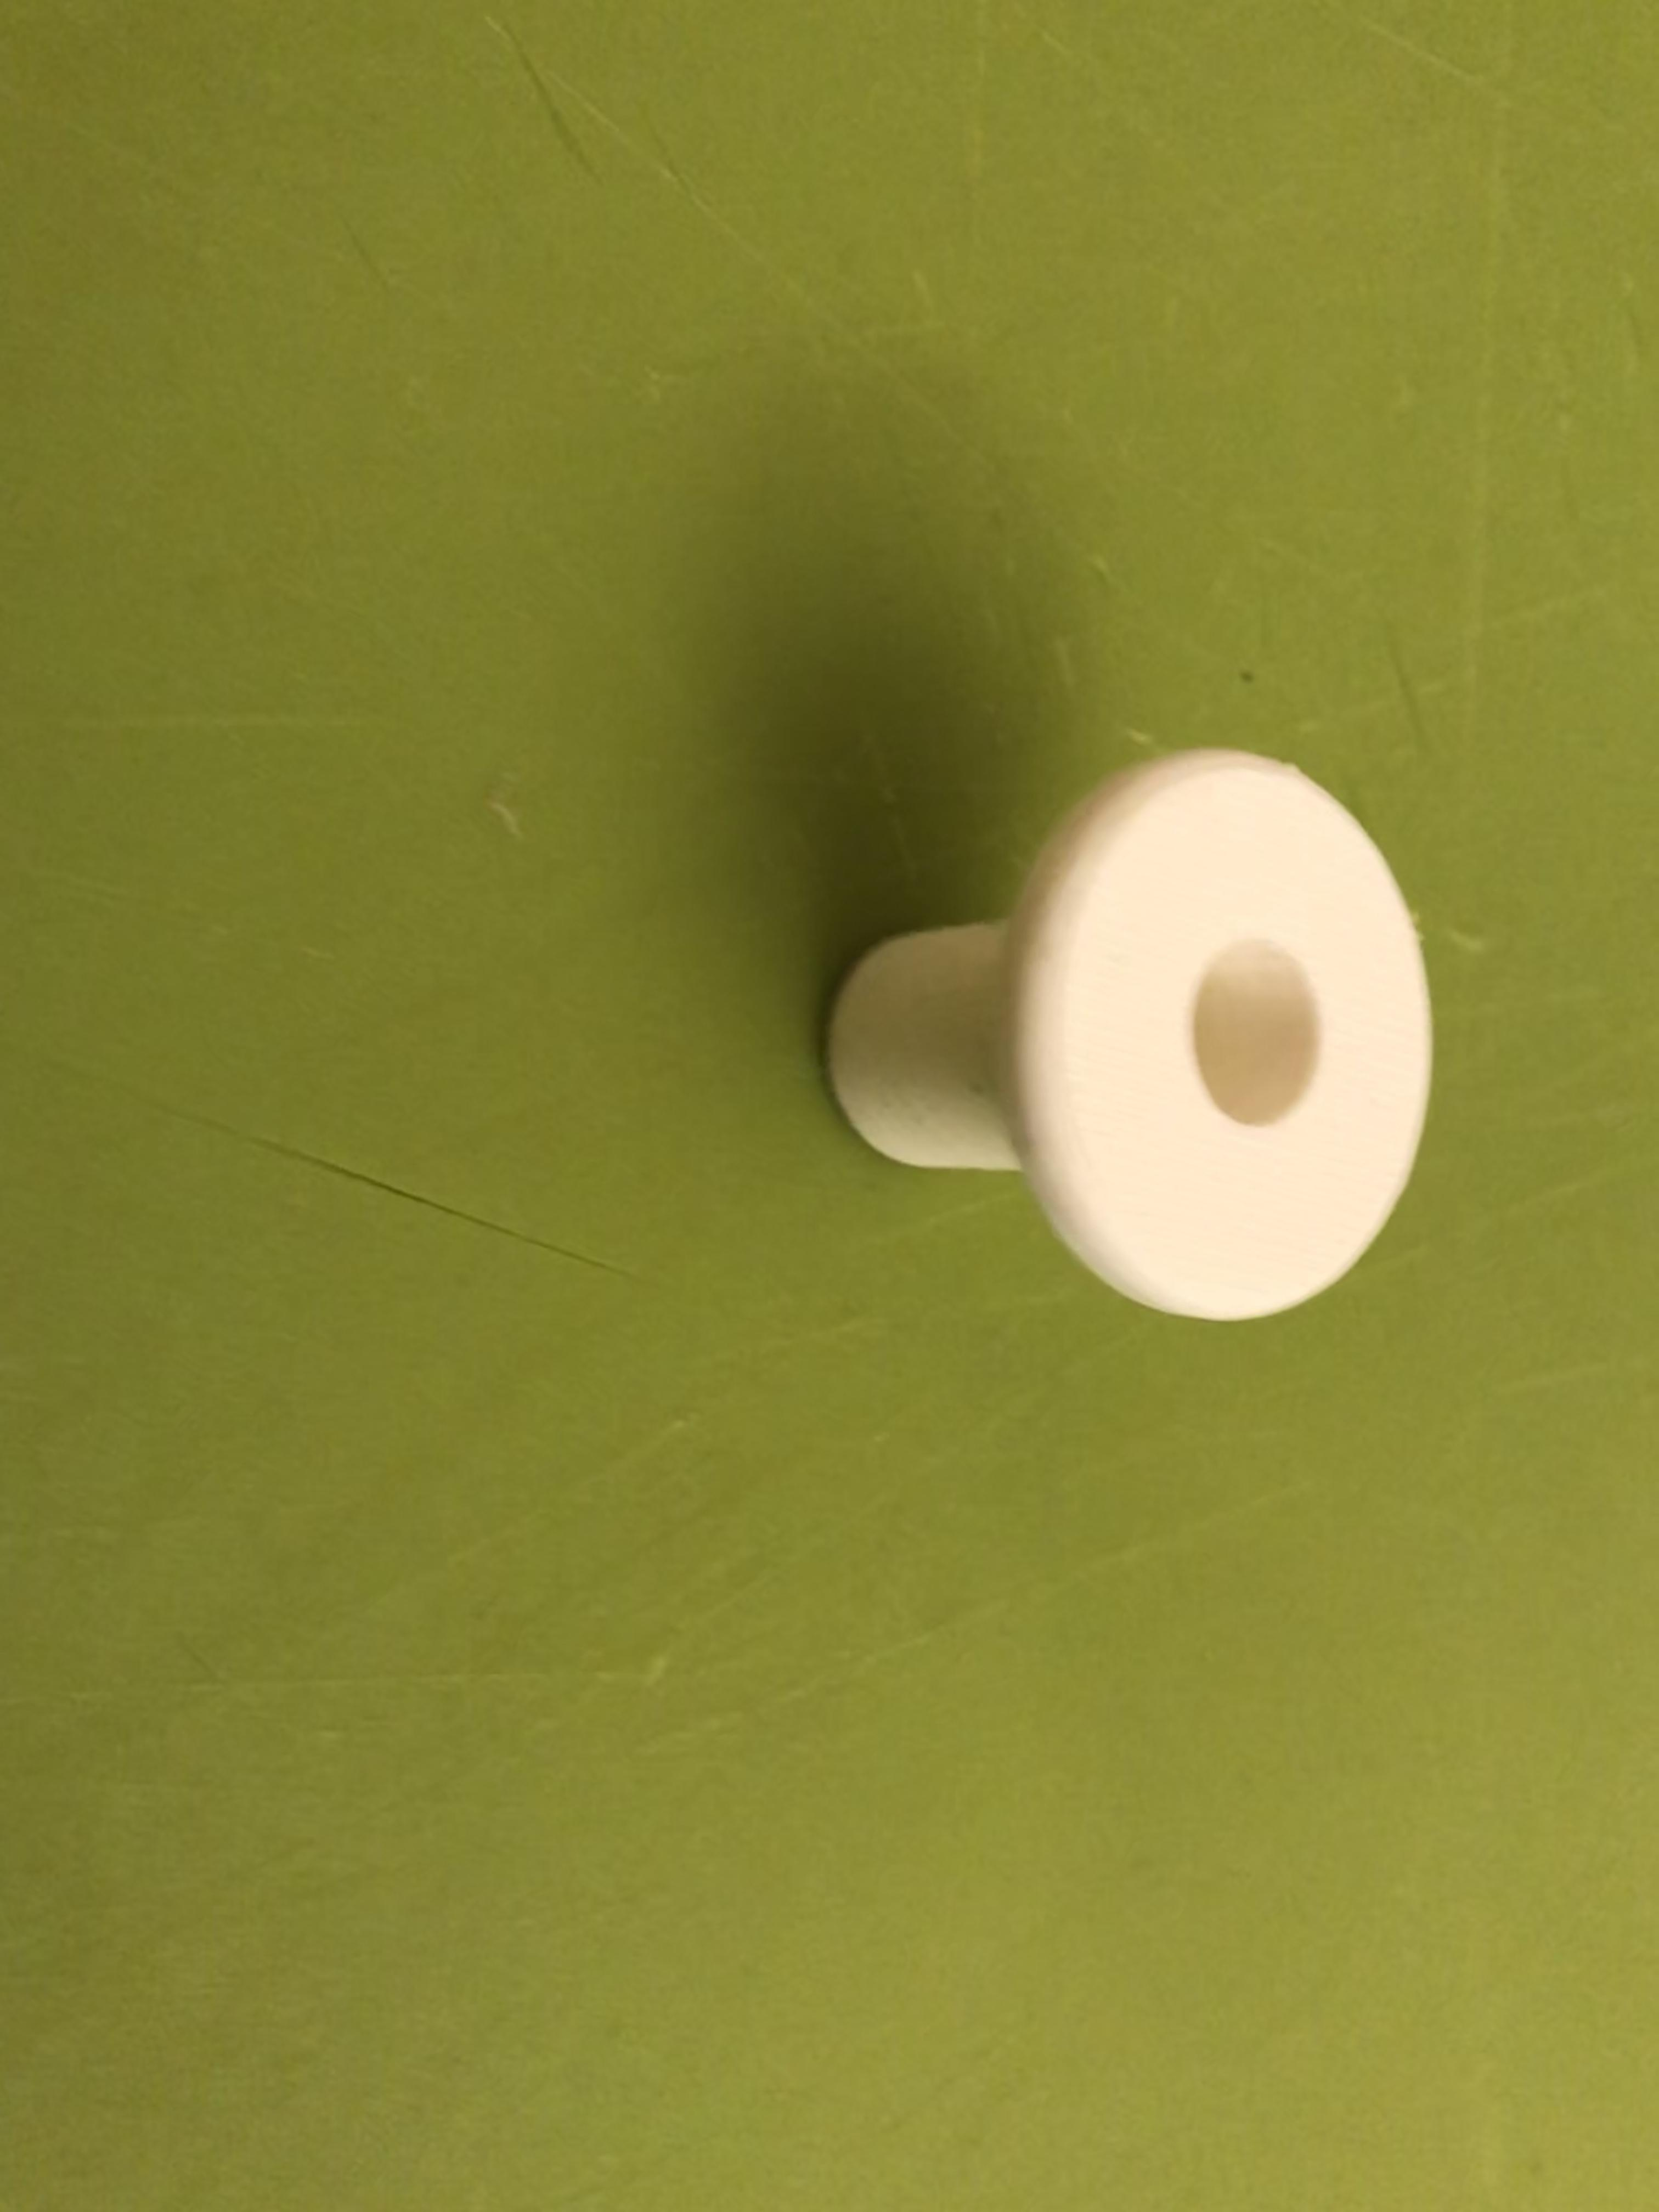White Cone: (800, 747, 1438, 1339)
